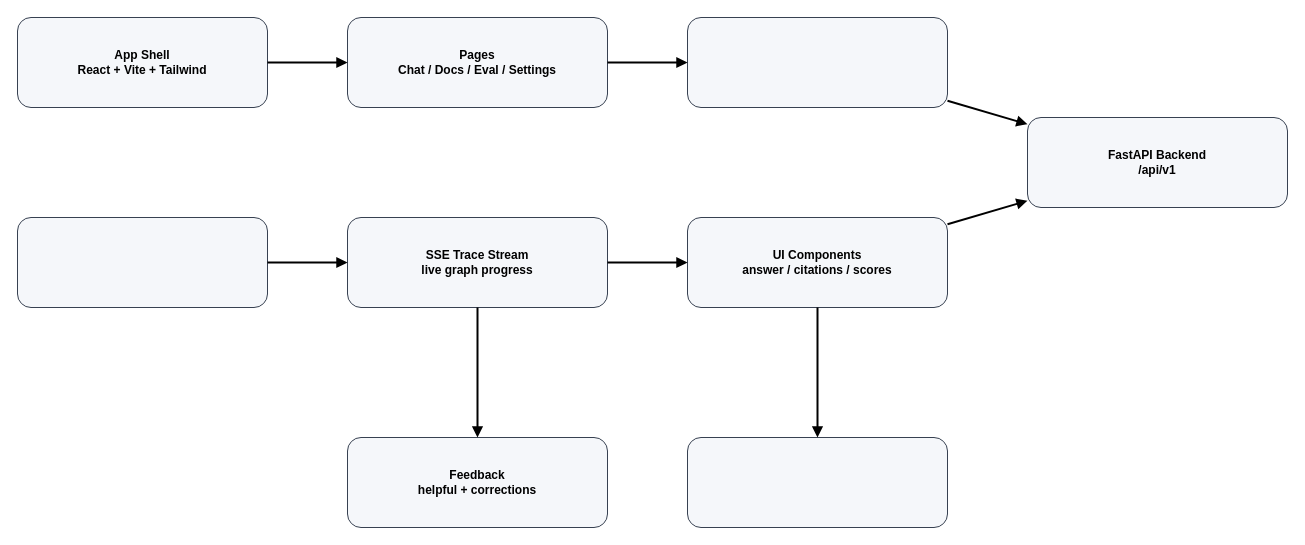
This 1305x545 diagram has some shape labels left out. Here are the shapes that lost their labels. From the top down, the centre of each, then its label:
At (817,62): "Feature Modules chat / traces / scores".
At (142,262): "API Client TanStack Query".
At (817,482): "Admin Dashboard docs + jobs + health".
